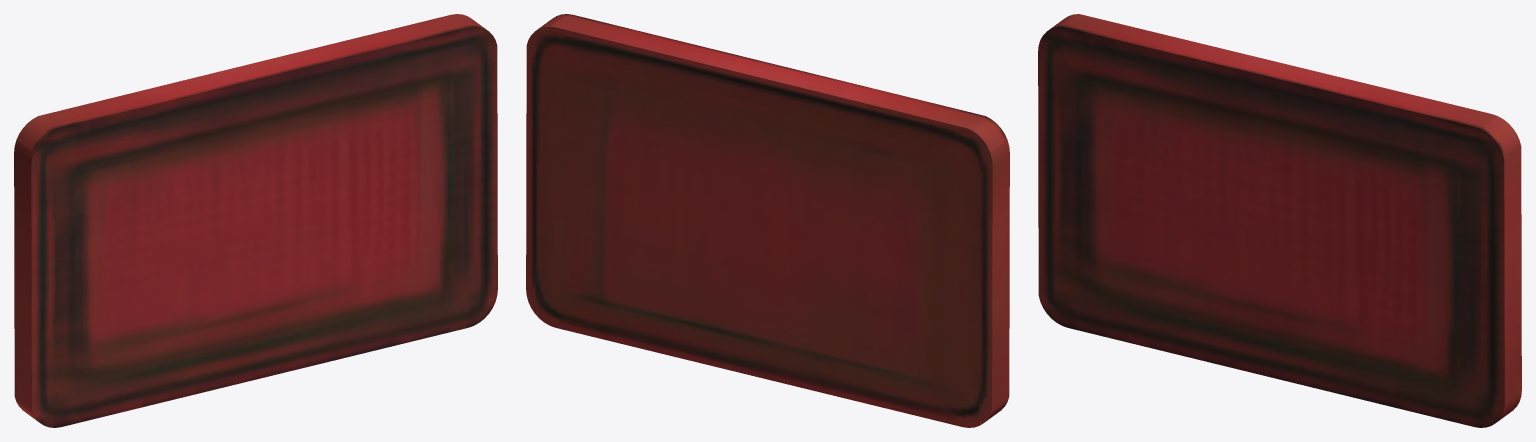
The model's file is tower_body__exhaust_grille_seat.glb.
The picture shows the model from 3 angles, left to right: view 1: azimuth 30°, elevation 25°; view 2: azimuth 150°, elevation 25°; view 3: azimuth 330°, elevation 25°; orthographic projection.
Visible parts, largest first — view 1: geometry_0; view 2: geometry_0; view 3: geometry_0.
Boxes of the visible parts, x1,y1,x2,y2 form: geometry_0: [14, 14, 497, 427]; geometry_0: [526, 14, 1009, 427]; geometry_0: [1038, 14, 1521, 427].
Bounding box in the file's own units: 0.156 × 0.096 × 0.01.
1 material, 1 textured.
